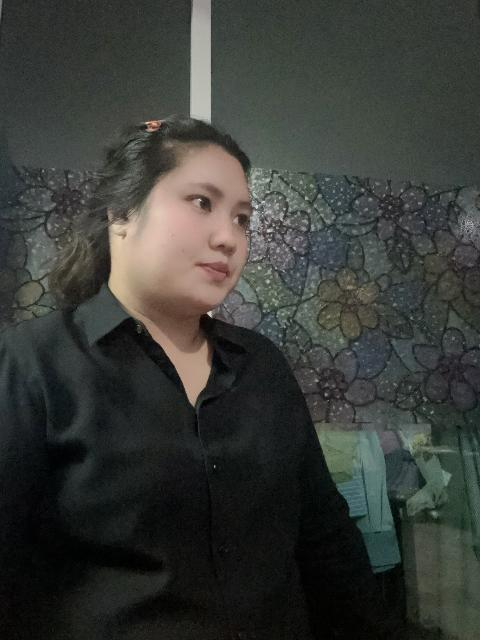fokus: (103, 107, 254, 303)
